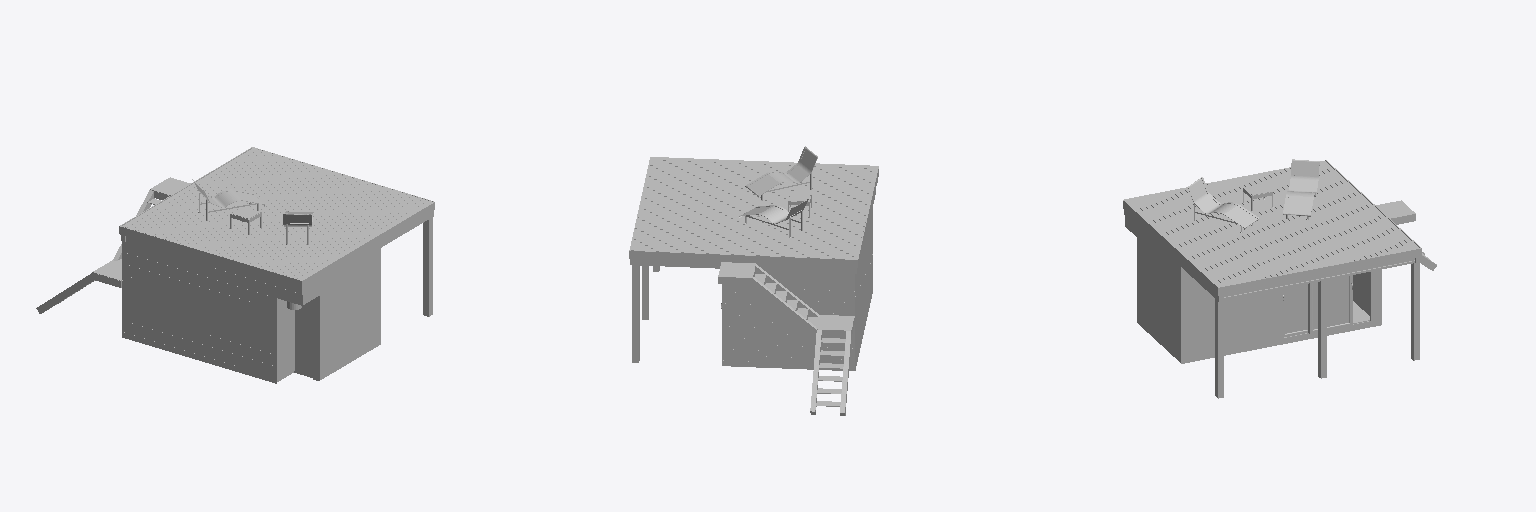
File: cabane.obj
3 renders of one model, left to right at view 1: azimuth 30°, elevation 25°; view 2: azimuth 150°, elevation 25°; view 3: azimuth 270°, elevation 25°, orthographic.
Visible parts, largest first — view 1: Group_354, Group_352, Group_209, Group_034, Group_358, Group_344, Group_347, Group_349, Group_346, Group_350, Group_343, Group_348 (+19 smaller); view 2: Group_355, Group_362, Group_035, Group_210, Group_041, Group_358, Group_343, Group_331, Group_321, Group_342, Group_319, Group_320 (+22 smaller); view 3: Group_353, Group_358, Porte_droite_003, Group_362, Porte_gauche_001, Group_032, Group_352, Group_211, Group_209, Group_210, Baie_vitr_e_001, Group_343 (+21 smaller).
Part boxes in pixels (x1,y1,x2,y2): Group_354: (120,226,301,288); Group_352: (301,202,434,288); Group_209: (423,217,432,316); Group_034: (298,211,433,294); Group_358: (192,179,264,207); Group_344: (292,199,427,278); Group_347: (271,193,406,272); Group_349: (282,196,417,275); Group_346: (276,194,411,273); Group_350: (287,197,421,276); Group_343: (122,148,258,227); Group_348: (265,191,401,270); Group_355: (629,250,857,267); Group_362: (745,146,817,197); Group_035: (630,259,857,273); Group_210: (632,265,639,362); Group_041: (750,277,816,337); Group_358: (739,198,809,223); Group_343: (631,248,857,258); Group_331: (632,242,858,253); Group_321: (634,234,860,245); Group_342: (631,245,857,256); Group_319: (633,239,859,250); Group_320: (633,237,859,247); Group_353: (1219,248,1420,295); Group_358: (1283,159,1319,216); Porte_droite_003: (1313,276,1348,329); Group_362: (1188,177,1259,229); Porte_gauche_001: (1285,284,1307,333); Group_032: (1224,258,1414,299); Group_352: (1123,200,1218,295); Group_211: (1318,280,1326,378); Group_209: (1215,299,1223,398); Group_210: (1411,263,1419,360); Baie_vitr_e_001: (1279,271,1374,341); Group_343: (1320,161,1418,248).
Bounding box in the file's own units: 123 × 58.4 × 113.